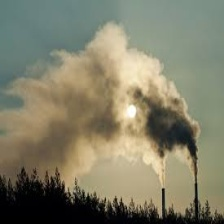smoke: (3, 35, 203, 184)
